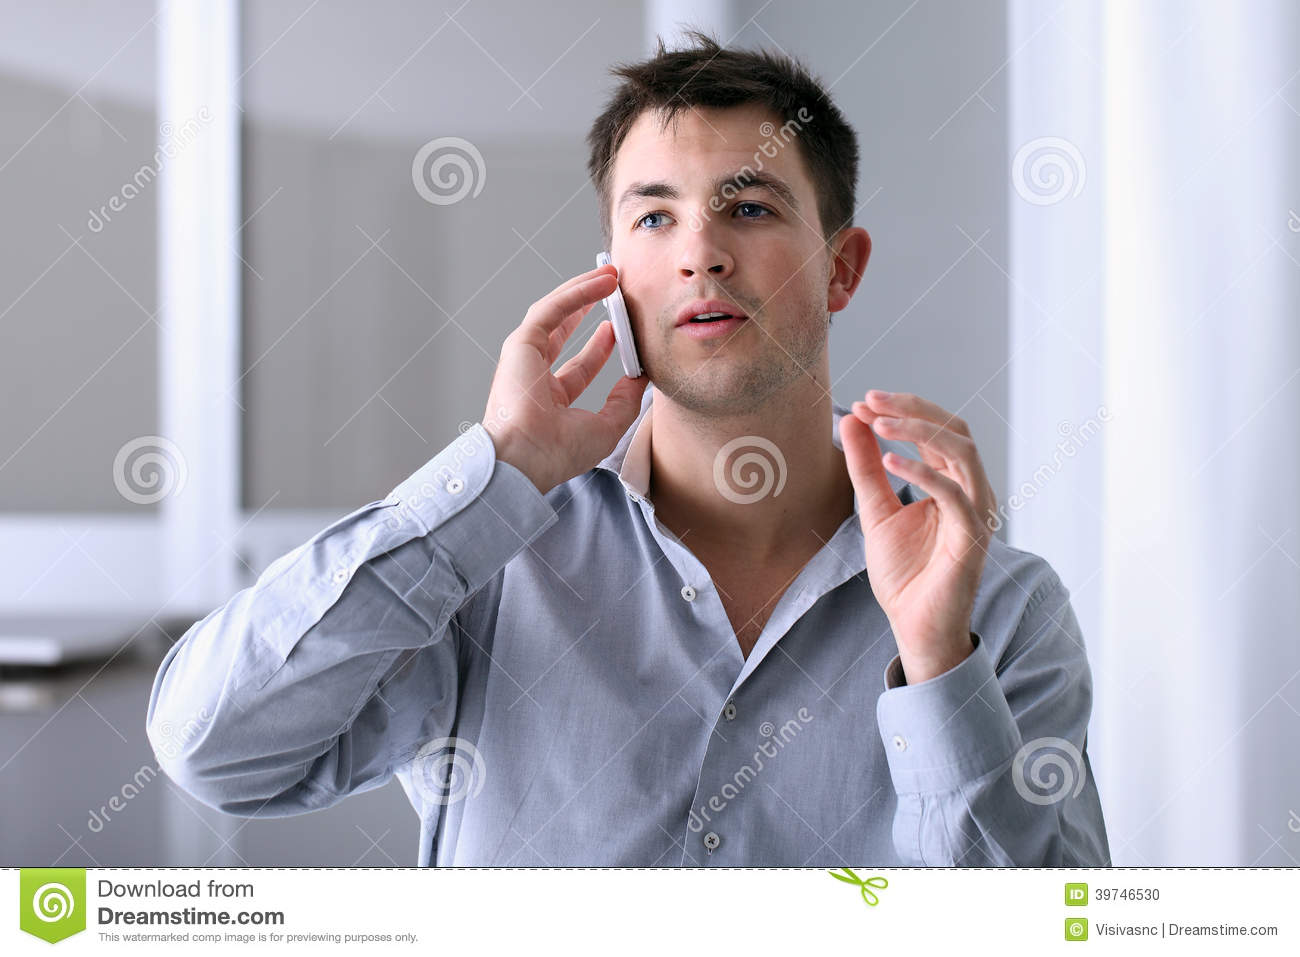phone: (586, 246, 641, 393)
talk: (474, 159, 817, 499)
